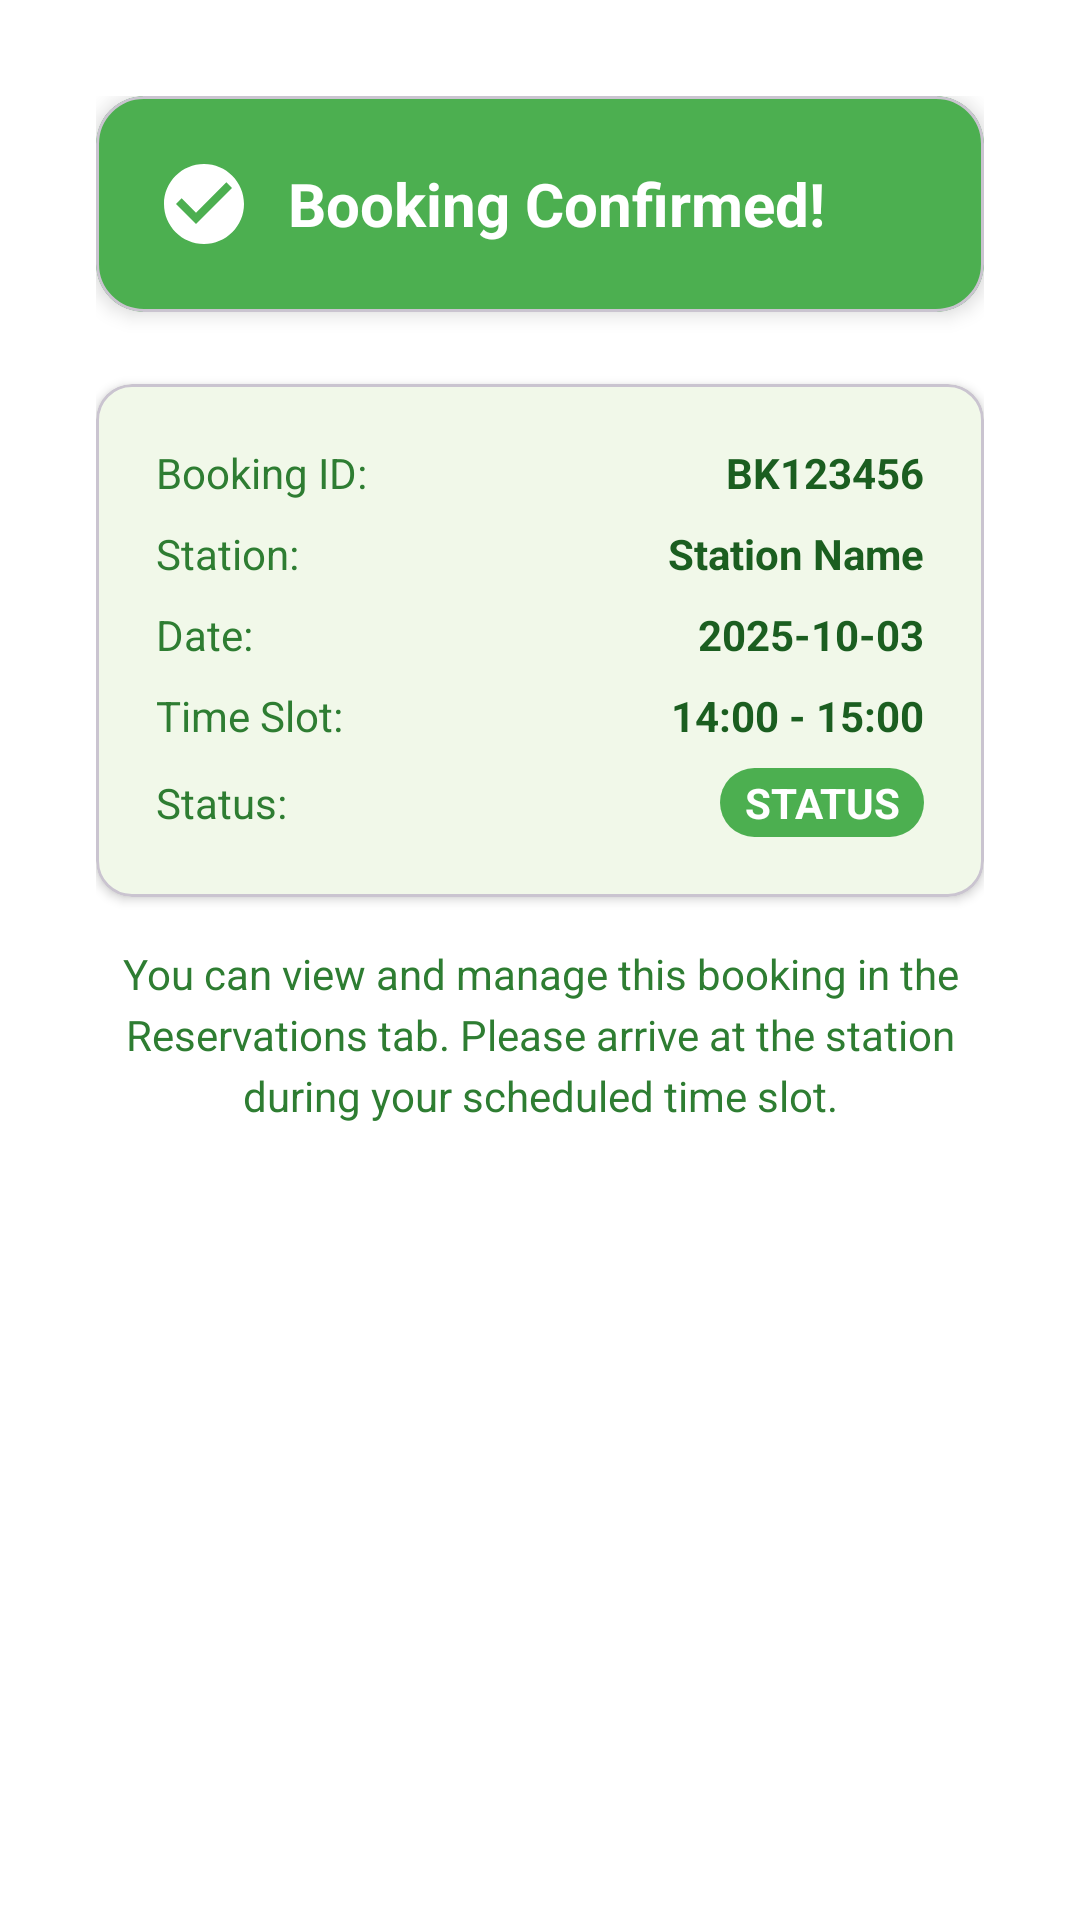

Named icons in this screenshot (1080 × 1920) and their centers, (x,y):
check circle: (204,204)
